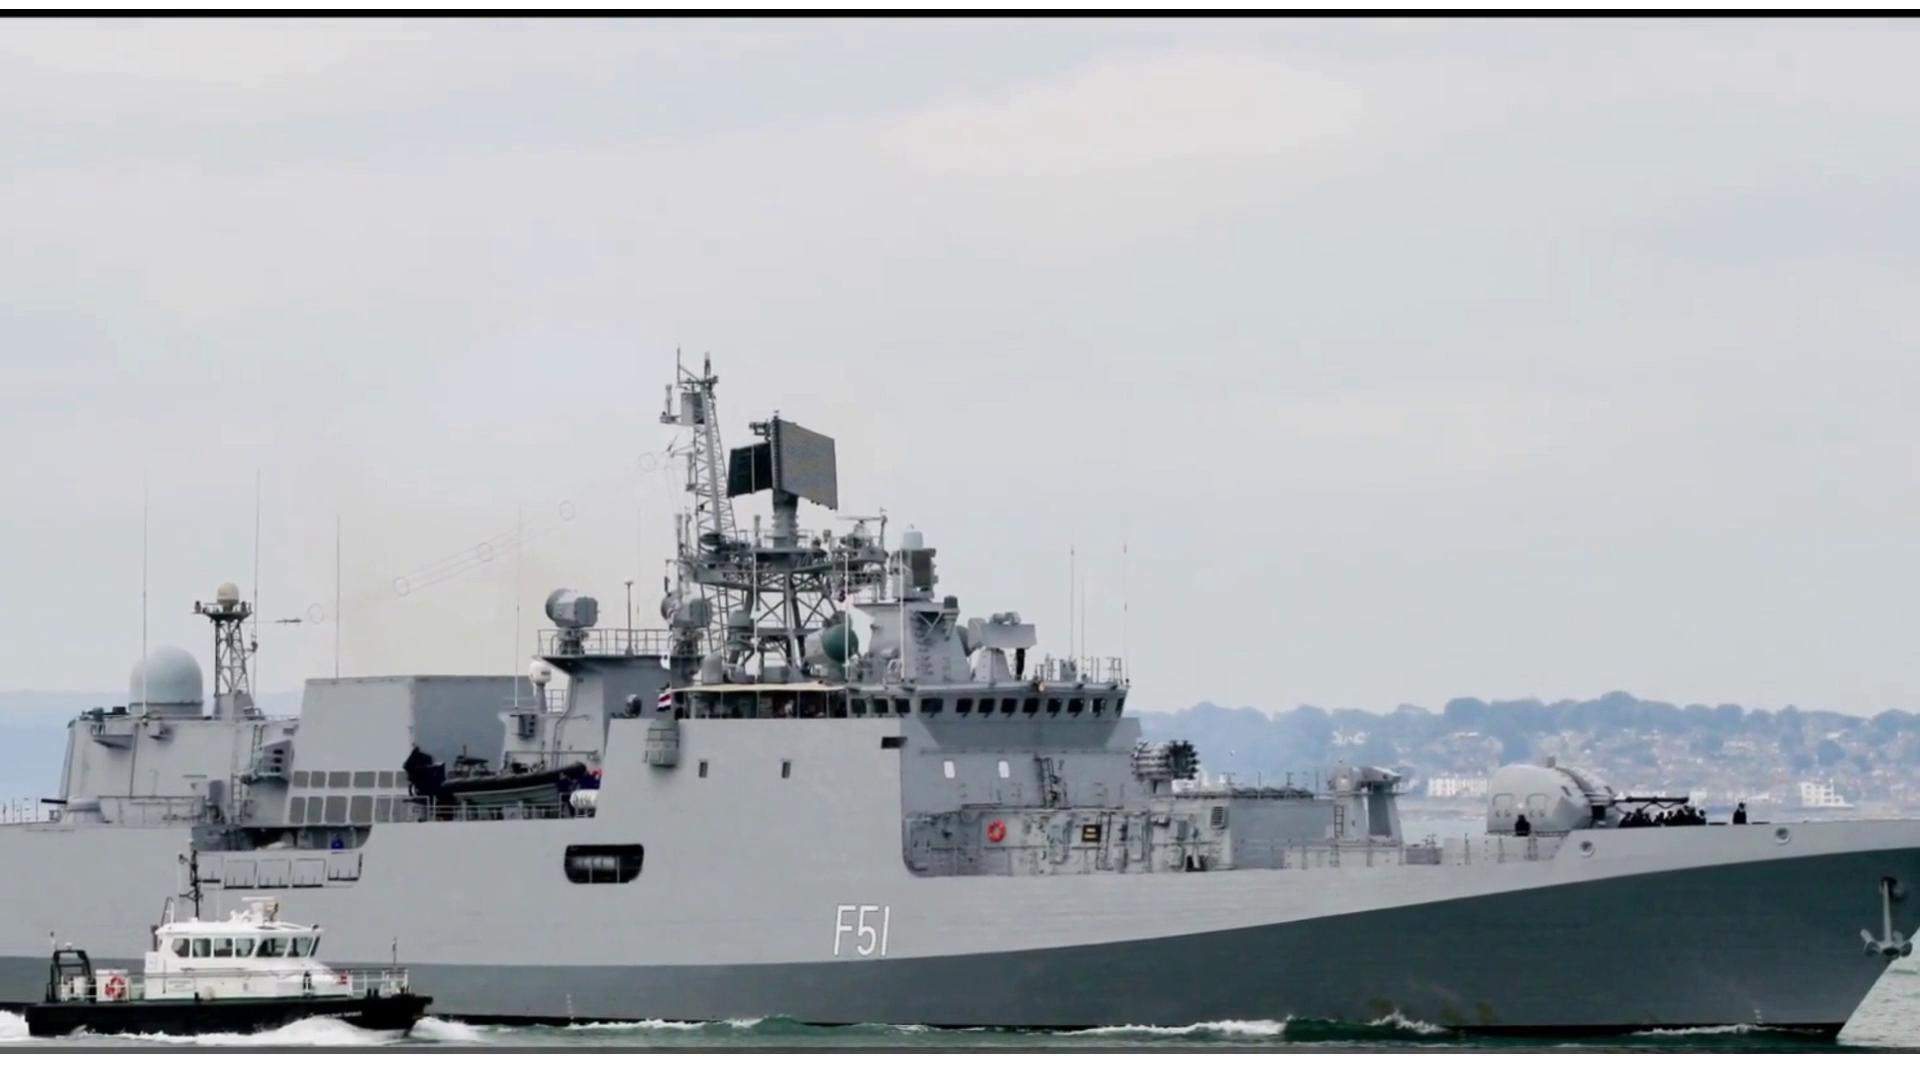OCR: (824, 886, 927, 975)
